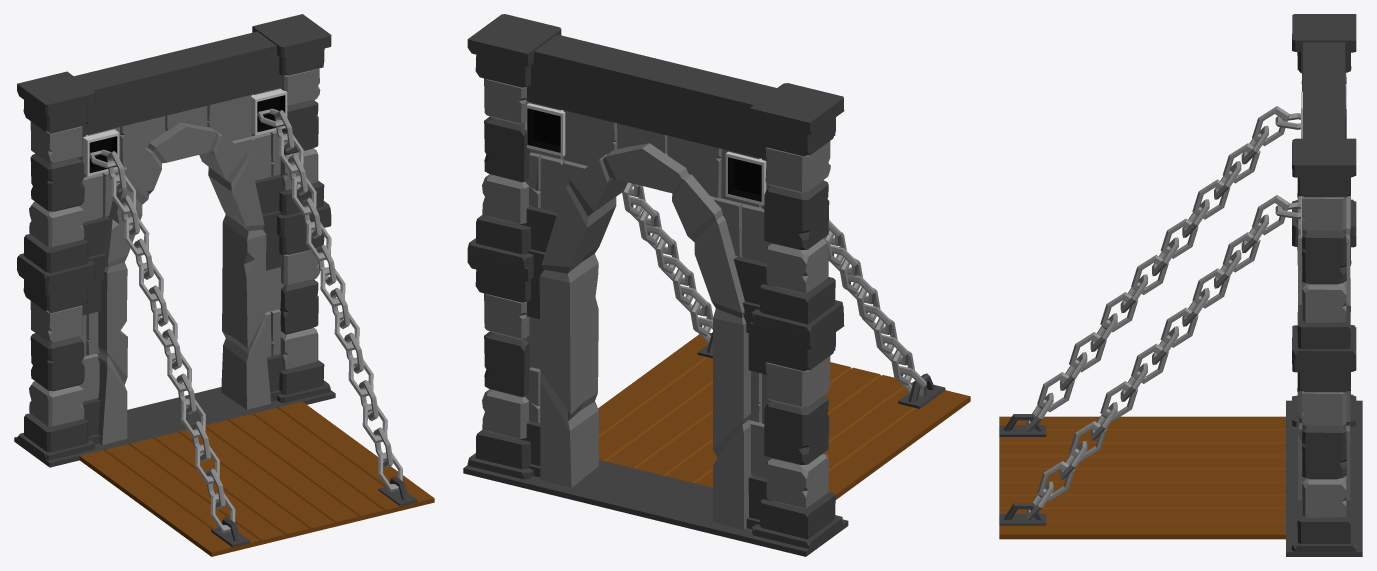
Rendered from Drawbridge_1_piece (1).fbx.
The picture shows the model from 3 angles, left to right: view 1: azimuth 30°, elevation 25°; view 2: azimuth 150°, elevation 25°; view 3: azimuth 270°, elevation 25°; orthographic projection. The views are drawn at different scales.
Visible parts, largest first — view 1: Cube.003; view 2: Cube.003; view 3: Cube.003.
Boxes of the visible parts, x1,y1,x2,y2 form: Cube.003: (14,14,434,556); Cube.003: (463,14,970,556); Cube.003: (999,14,1362,556).
Bounding box in the file's own units: 502 × 603 × 507.
